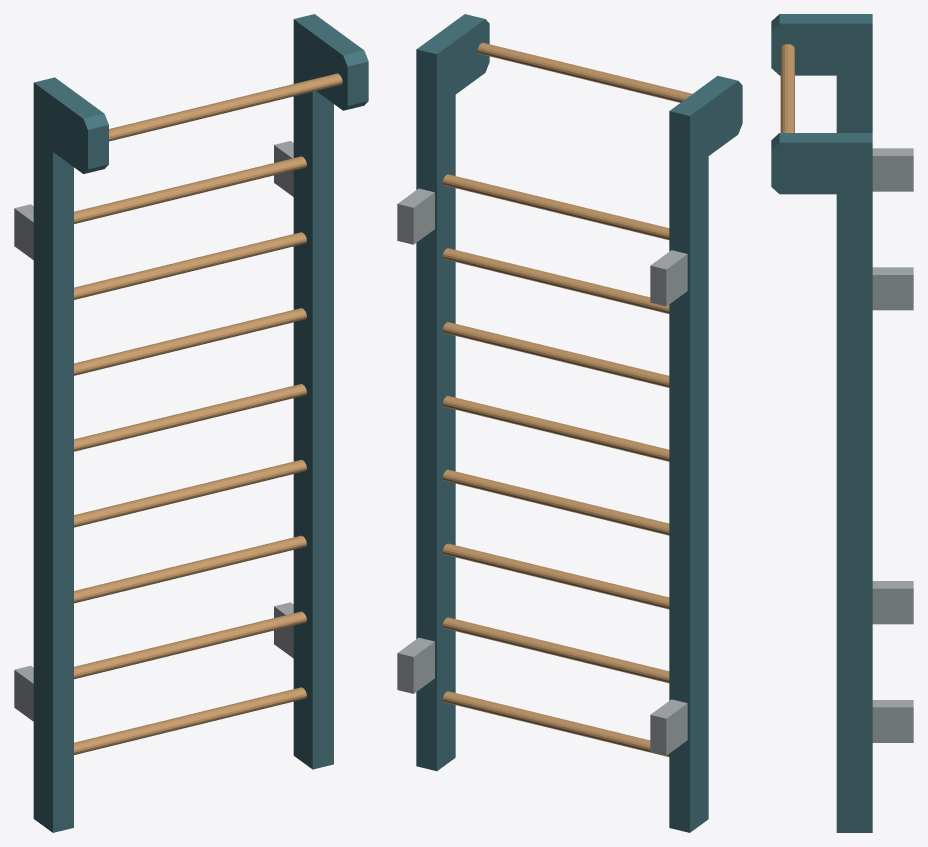
3 views of the same model, side by side, from view 1: azimuth 30°, elevation 25°; view 2: azimuth 150°, elevation 25°; view 3: azimuth 270°, elevation 25° (orthographic). The views are drawn at different scales.
Visible parts, largest first — view 1: WholeLeftProfiledCrownUpright, WholeRightProfiledCrownUpright, WholeForwardCrownGrip, WholeOvalRung01, WholeOvalRung03, WholeOvalRung05, WholeOvalRung07, WholeOvalRung08, WholeOvalRung02, WholeOvalRung04, WholeOvalRung06, WholeLeftLowerRearMountBlock (+3 smaller); view 2: WholeLeftProfiledCrownUpright, WholeRightProfiledCrownUpright, WholeOvalRung03, WholeOvalRung05, WholeOvalRung08, WholeOvalRung04, WholeOvalRung06, WholeOvalRung02, WholeOvalRung07, WholeOvalRung01, WholeForwardCrownGrip, WholeLeftLowerRearMountBlock (+3 smaller); view 3: WholeRightProfiledCrownUpright, WholeLeftProfiledCrownUpright, WholeLeftUpperRearMountBlock, WholeLeftLowerRearMountBlock, WholeRightUpperRearMountBlock, WholeRightLowerRearMountBlock, WholeForwardCrownGrip.
Part boxes in pixels (left/top/right/bottom): WholeLeftProfiledCrownUpright: left=33, top=77, right=108, bottom=832; WholeRightProfiledCrownUpright: left=293, top=14, right=368, bottom=769; WholeForwardCrownGrip: left=109, top=73, right=342, bottom=141; WholeOvalRung01: left=74, top=687, right=306, bottom=754; WholeOvalRung03: left=74, top=535, right=306, bottom=603; WholeOvalRung05: left=74, top=384, right=306, bottom=451; WholeOvalRung07: left=74, top=232, right=306, bottom=299; WholeOvalRung08: left=74, top=156, right=306, bottom=223; WholeOvalRung02: left=74, top=611, right=306, bottom=679; WholeOvalRung04: left=74, top=459, right=306, bottom=527; WholeOvalRung06: left=74, top=308, right=306, bottom=375; WholeLeftLowerRearMountBlock: left=14, top=665, right=33, bottom=721; WholeLeftProfiledCrownUpright: left=669, top=76, right=742, bottom=832; WholeRightProfiledCrownUpright: left=416, top=14, right=489, bottom=771; WholeOvalRung03: left=442, top=543, right=669, bottom=609; WholeOvalRung05: left=442, top=396, right=669, bottom=461; WholeOvalRung08: left=442, top=174, right=669, bottom=239; WholeOvalRung04: left=442, top=469, right=669, bottom=535; WholeOvalRung06: left=442, top=322, right=669, bottom=387; WholeOvalRung02: left=442, top=617, right=669, bottom=683; WholeOvalRung07: left=442, top=248, right=669, bottom=313; WholeOvalRung01: left=442, top=691, right=669, bottom=756; WholeForwardCrownGrip: left=477, top=42, right=692, bottom=102; WholeLeftLowerRearMountBlock: left=650, top=699, right=687, bottom=755; WholeRightProfiledCrownUpright: left=771, top=133, right=872, bottom=832; WholeLeftProfiledCrownUpright: left=771, top=14, right=872, bottom=132; WholeLeftUpperRearMountBlock: left=872, top=148, right=913, bottom=191; WholeLeftLowerRearMountBlock: left=872, top=581, right=913, bottom=624; WholeRightUpperRearMountBlock: left=872, top=267, right=913, bottom=310; WholeRightLowerRearMountBlock: left=872, top=700, right=913, bottom=742; WholeForwardCrownGrip: left=780, top=44, right=794, bottom=132.
Bounding box in the file's own units: 0.93 × 2.33 × 0.435.
